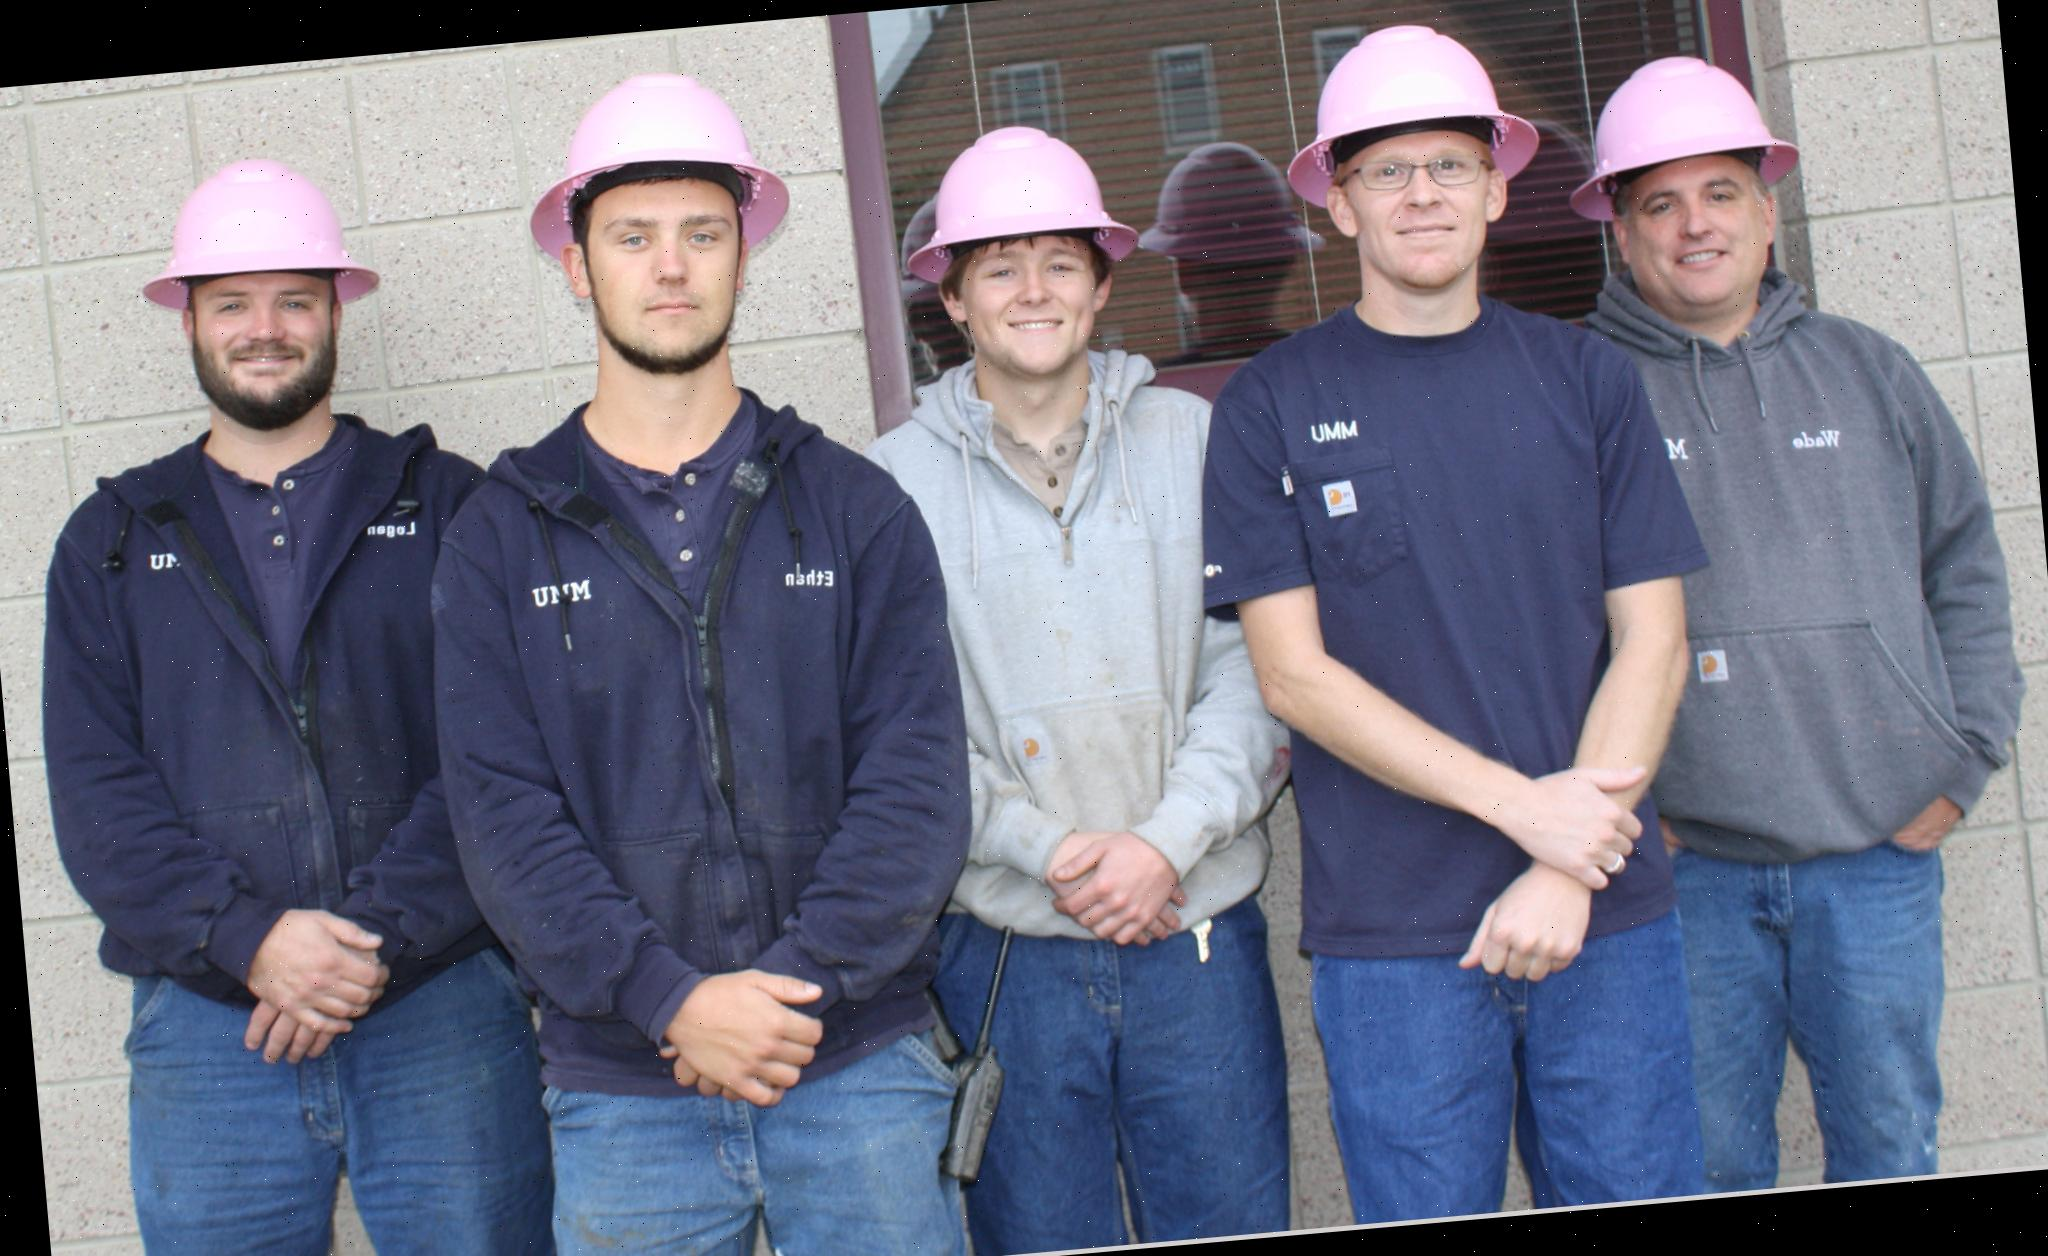helmet: (1274, 10, 1537, 215), (516, 66, 794, 251), (123, 152, 383, 310), (897, 113, 1141, 269), (1567, 41, 1795, 199)
no_wear: (1242, 295, 1701, 949), (480, 402, 945, 1040), (31, 434, 522, 1016), (884, 373, 1284, 940), (1622, 307, 1978, 860)
